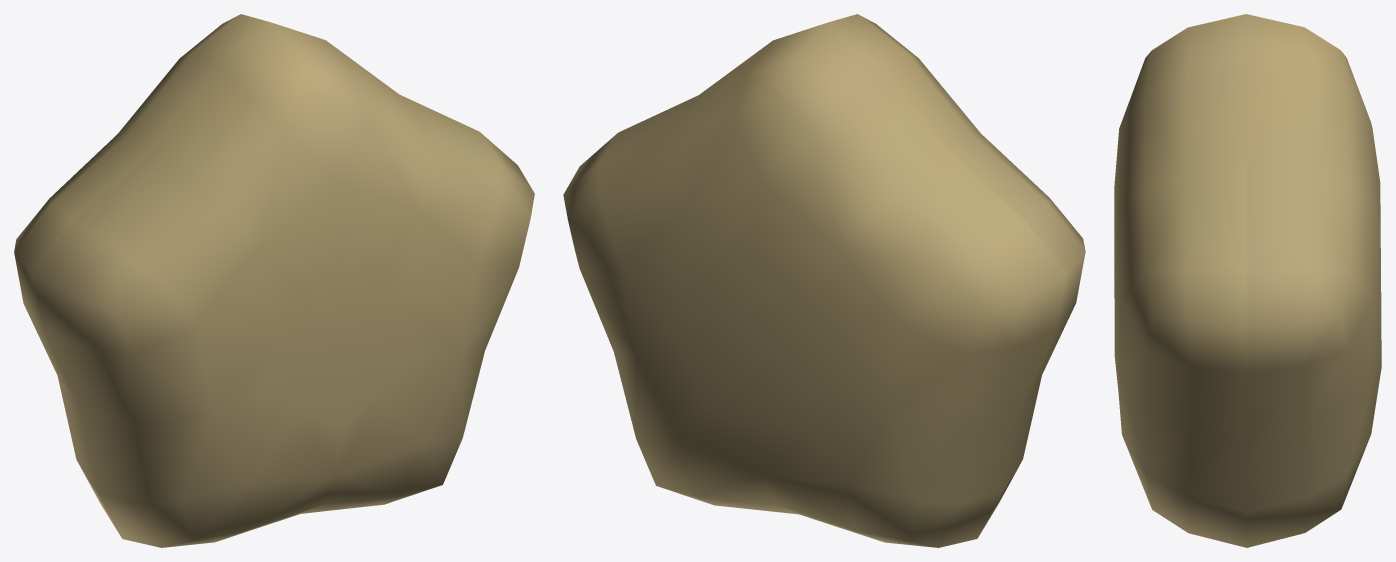
File: wawaC_wawajiA_Geo.fbx
3 views of the same model, side by side, from view 1: azimuth 30°, elevation 25°; view 2: azimuth 150°, elevation 25°; view 3: azimuth 270°, elevation 25° (orthographic). The views are drawn at different scales.
Visible parts, largest first — view 1: wawaC_wawajiA_Geo; view 2: wawaC_wawajiA_Geo; view 3: wawaC_wawajiA_Geo.
Boxes of the visible parts, <box> form: wawaC_wawajiA_Geo: <box>14,14,534,547</box>; wawaC_wawajiA_Geo: <box>563,14,1085,547</box>; wawaC_wawajiA_Geo: <box>1114,14,1381,547</box>.
Size of the model in its own units: 53.25 by 51.51 by 26.4.
1 material, 1 textured.
